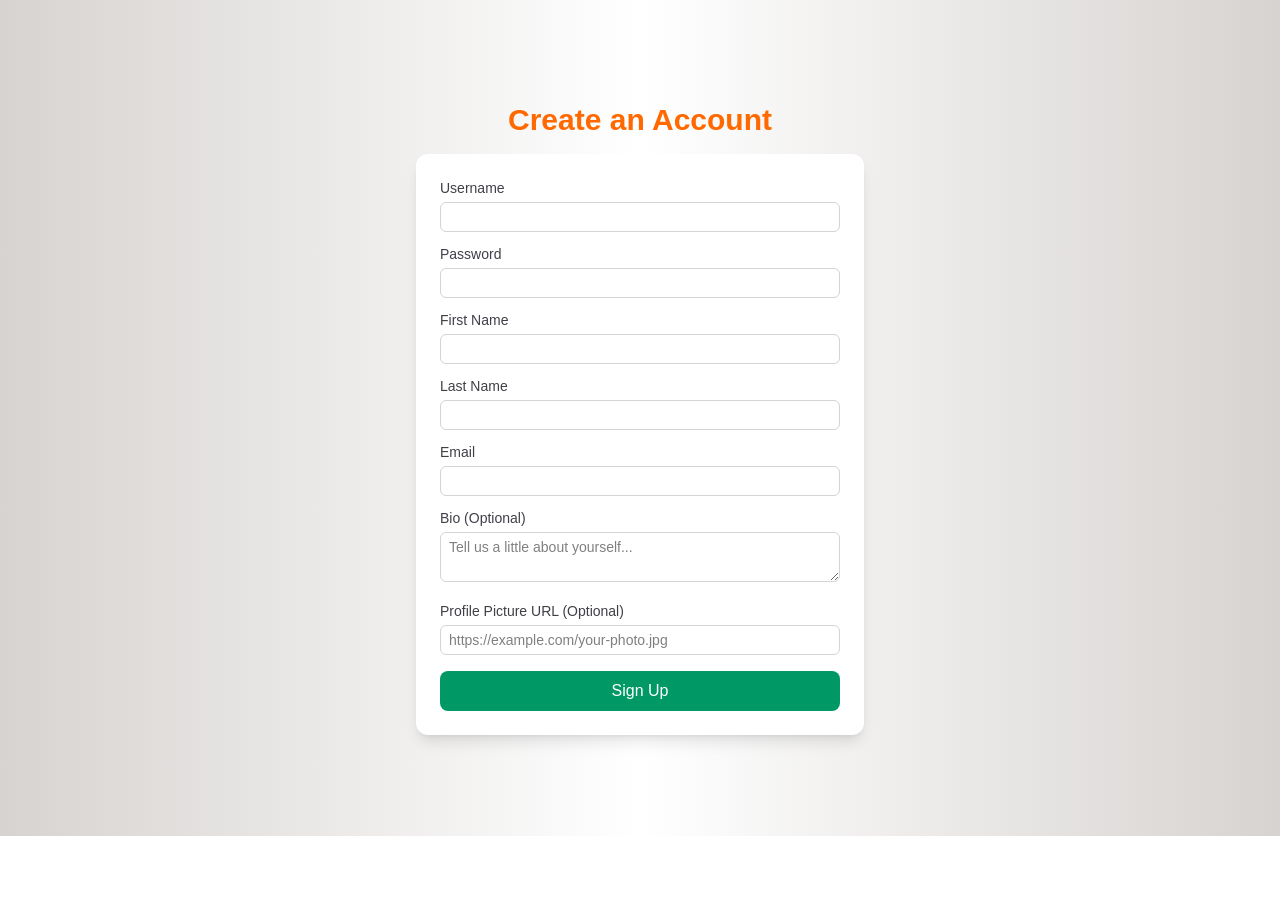
Test: SignupForm › displays error if signup fails
Step 1. Type "newuser" into the field labelled "Username" → x=640, y=216, box [440, 202, 840, 232]
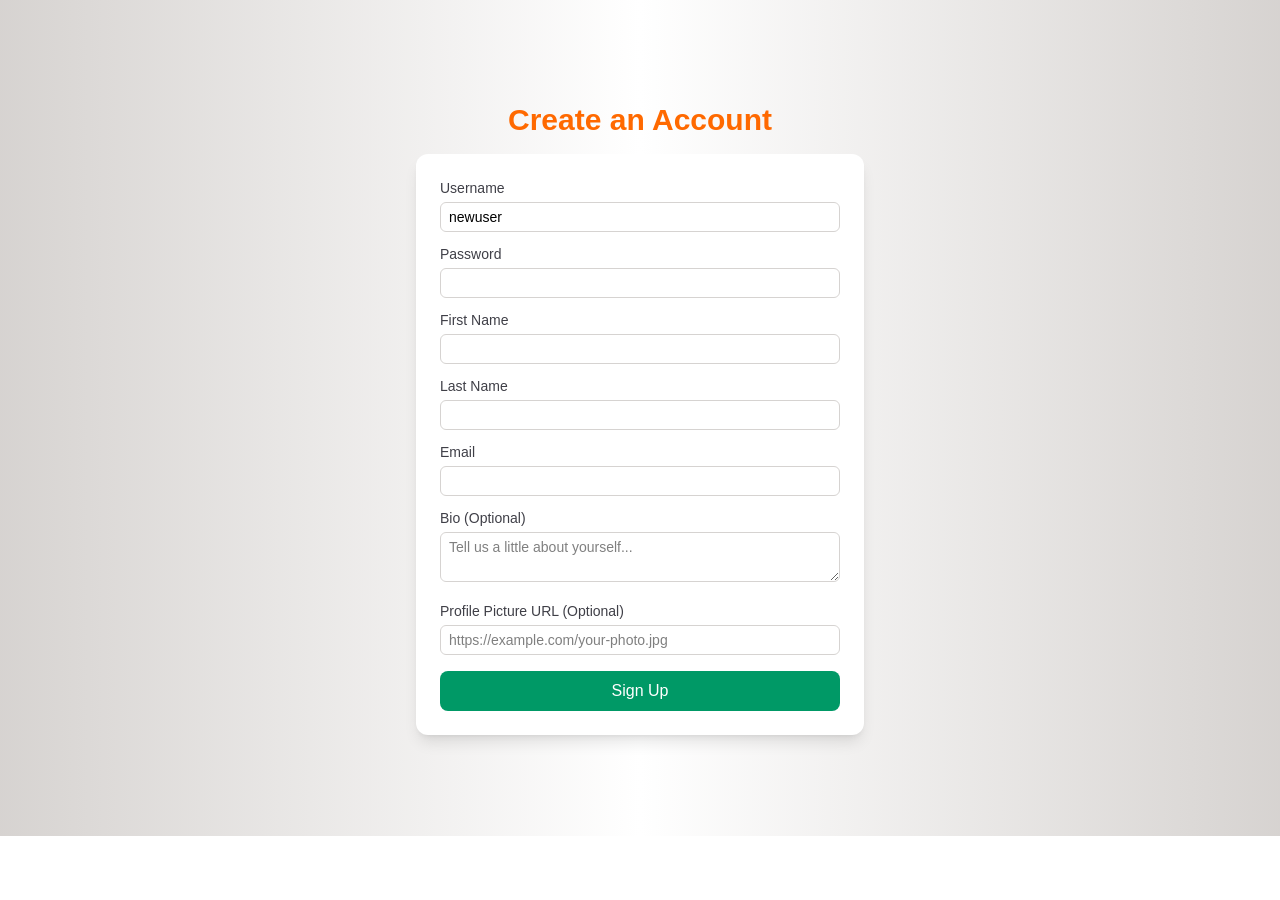
Step 2. Type "password123" into the password field labelled "Password" → x=640, y=282, box [440, 268, 840, 298]
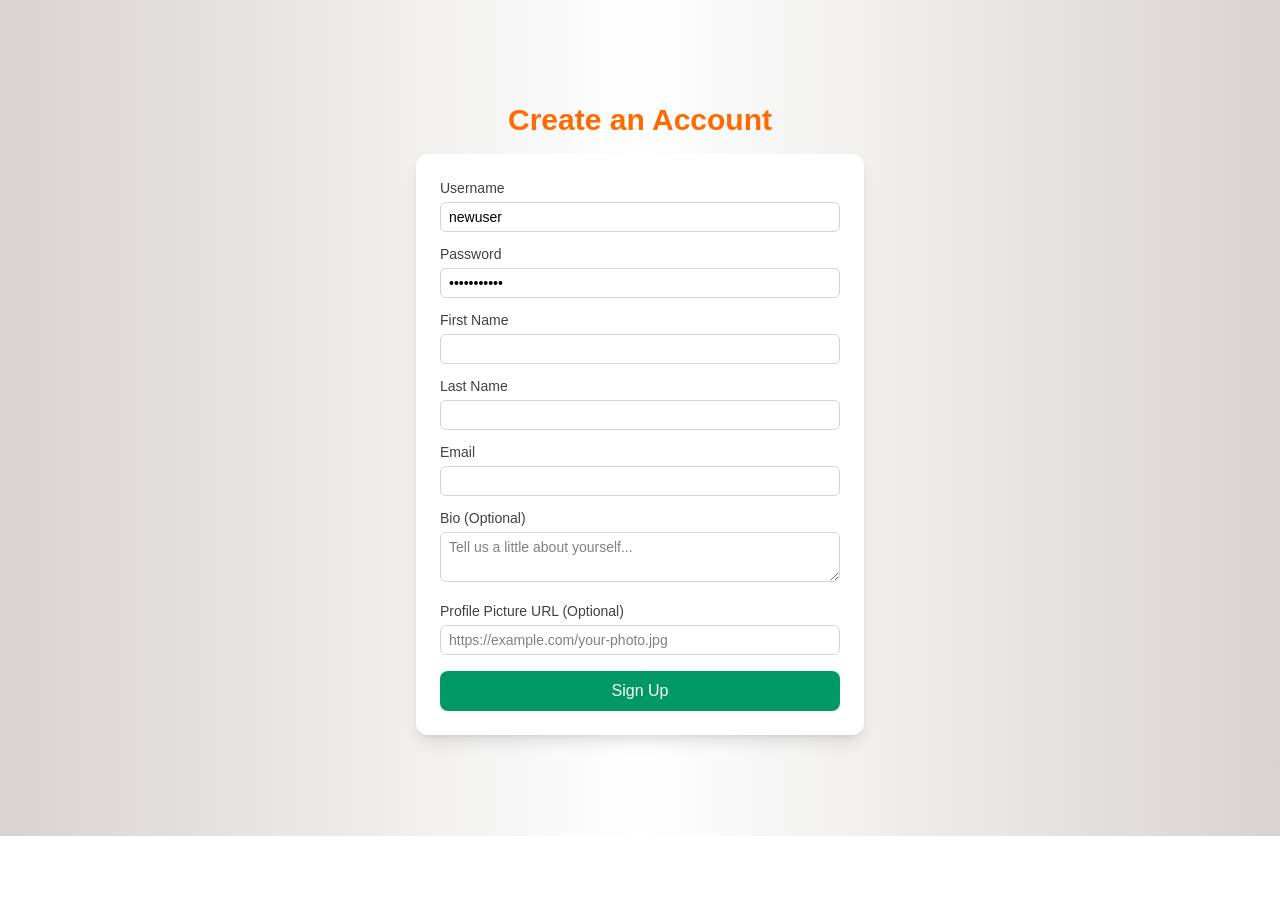
Step 3. Type "Test" into the field labelled "First Name" → x=640, y=348, box [440, 334, 840, 364]
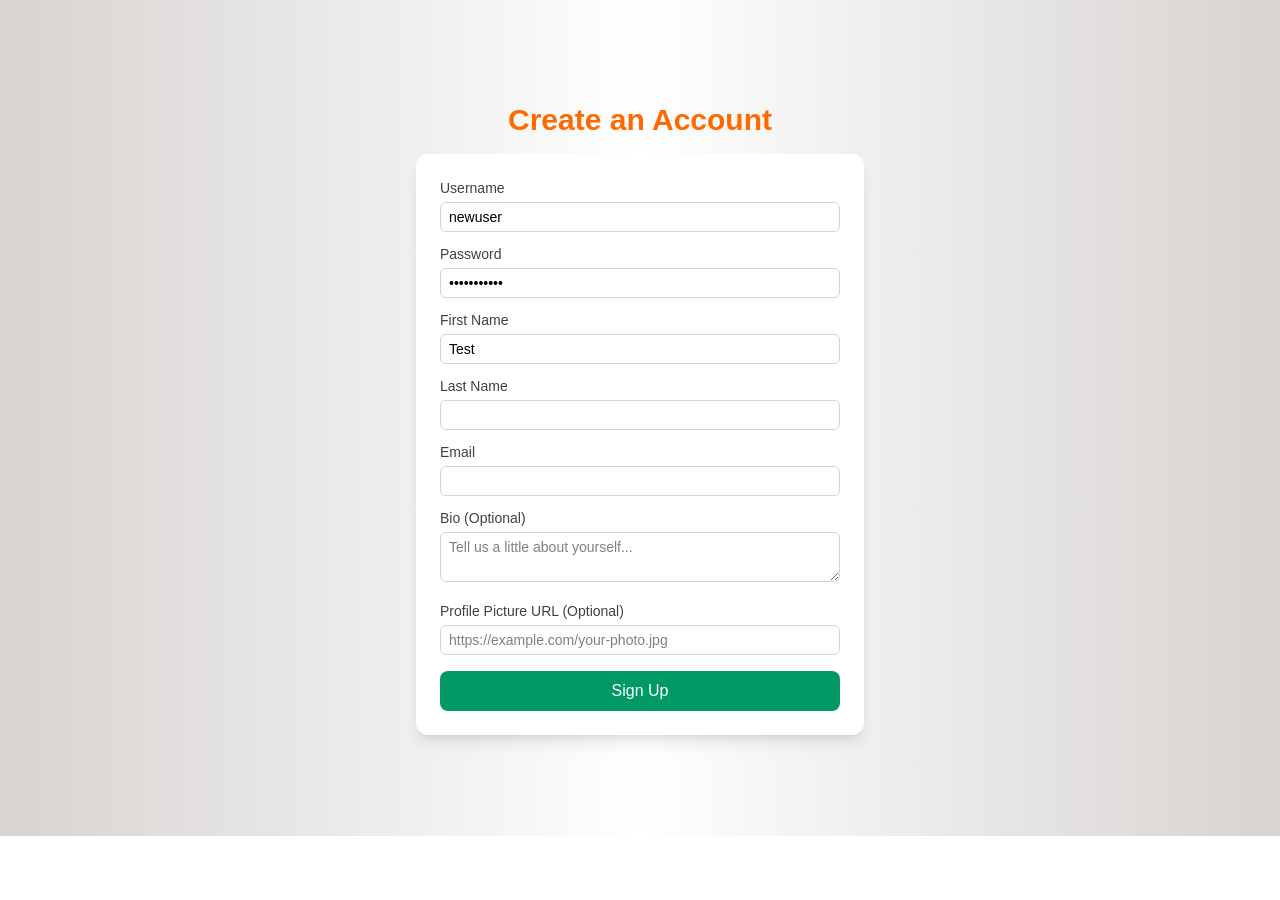
Step 4. Type "User" into the field labelled "Last Name" → x=640, y=414, box [440, 400, 840, 430]
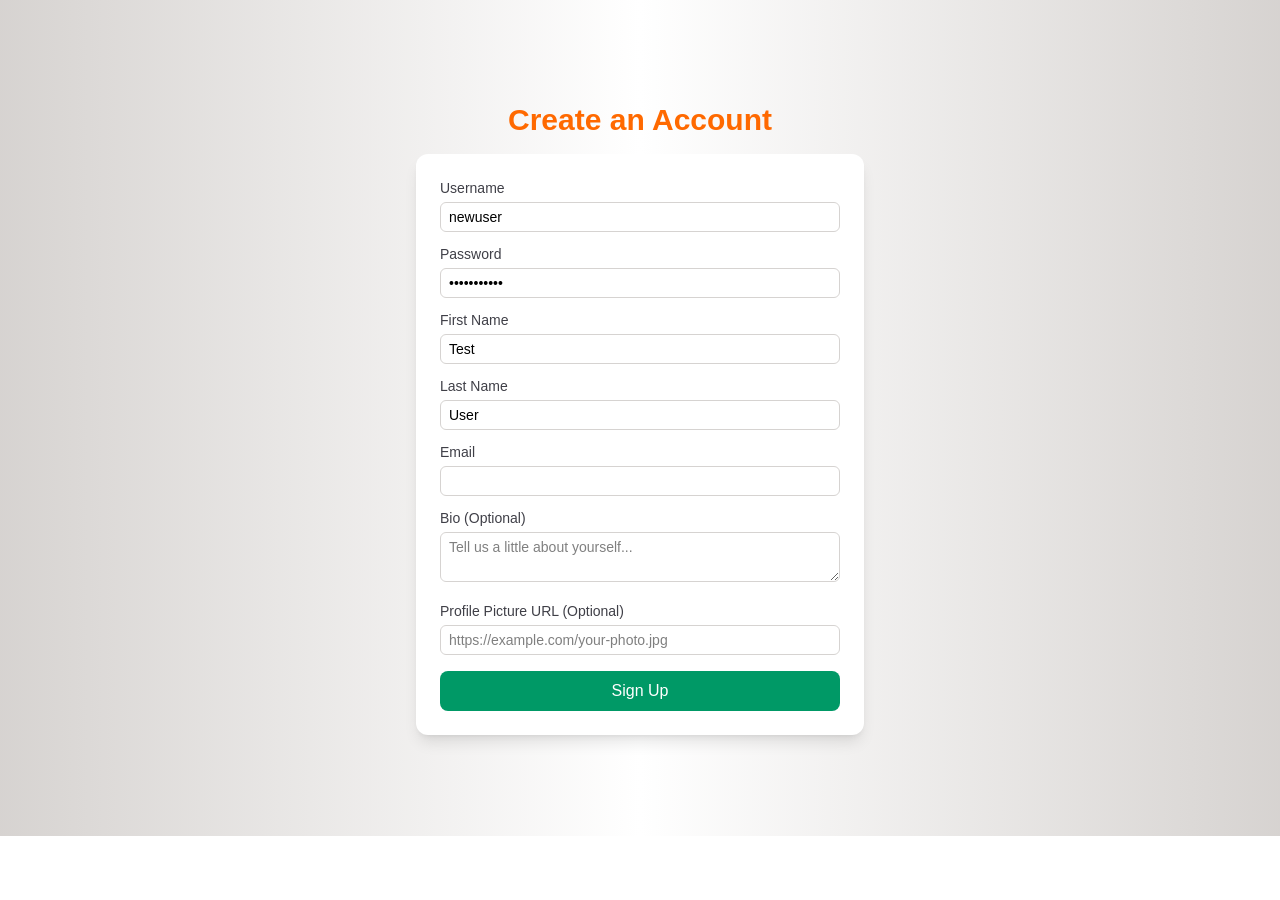
Step 5. Type "test@example.com" into the field labelled "Email" → x=640, y=480, box [440, 466, 840, 496]
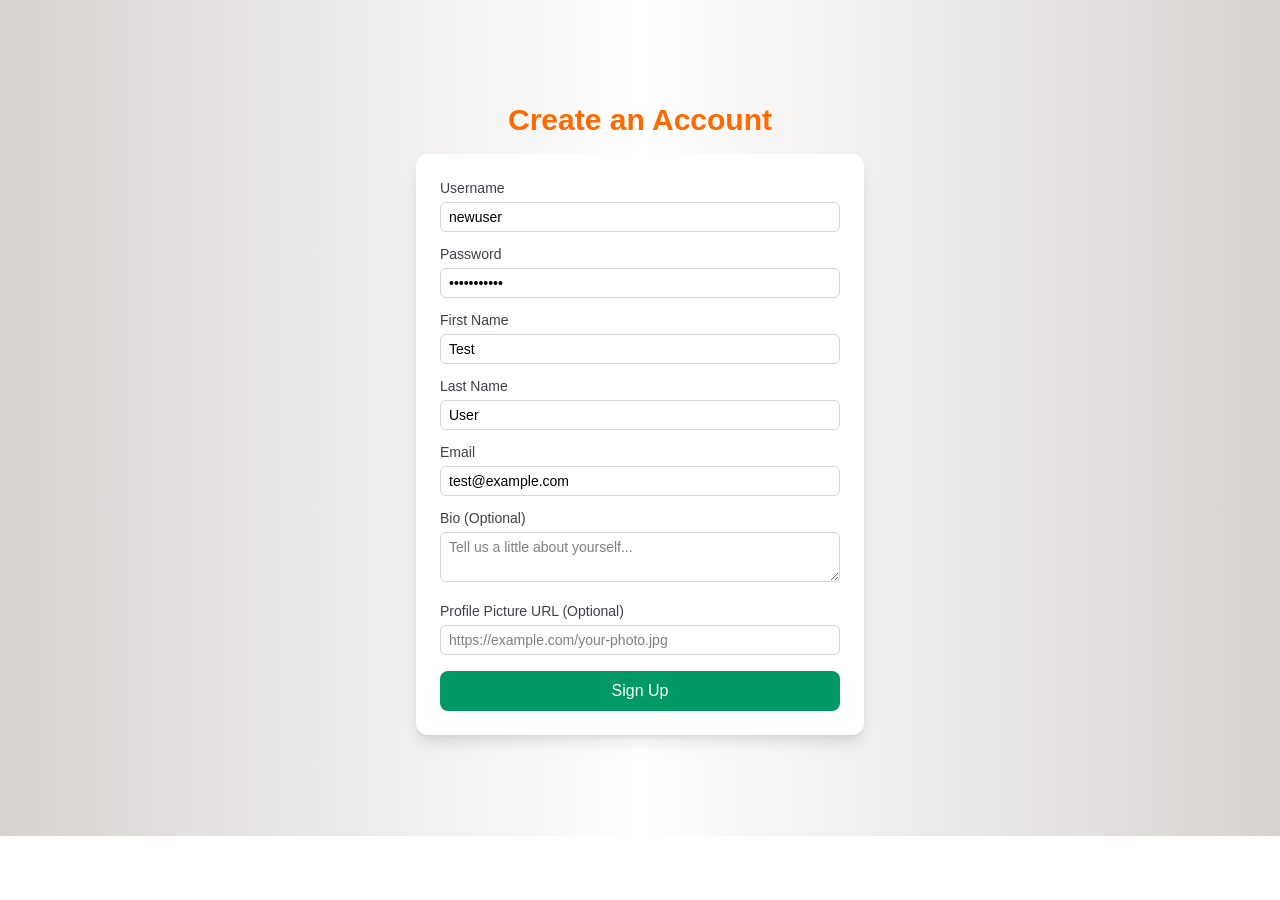
Step 6. Click the button "Sign Up" → x=640, y=690, box [440, 670, 840, 710]
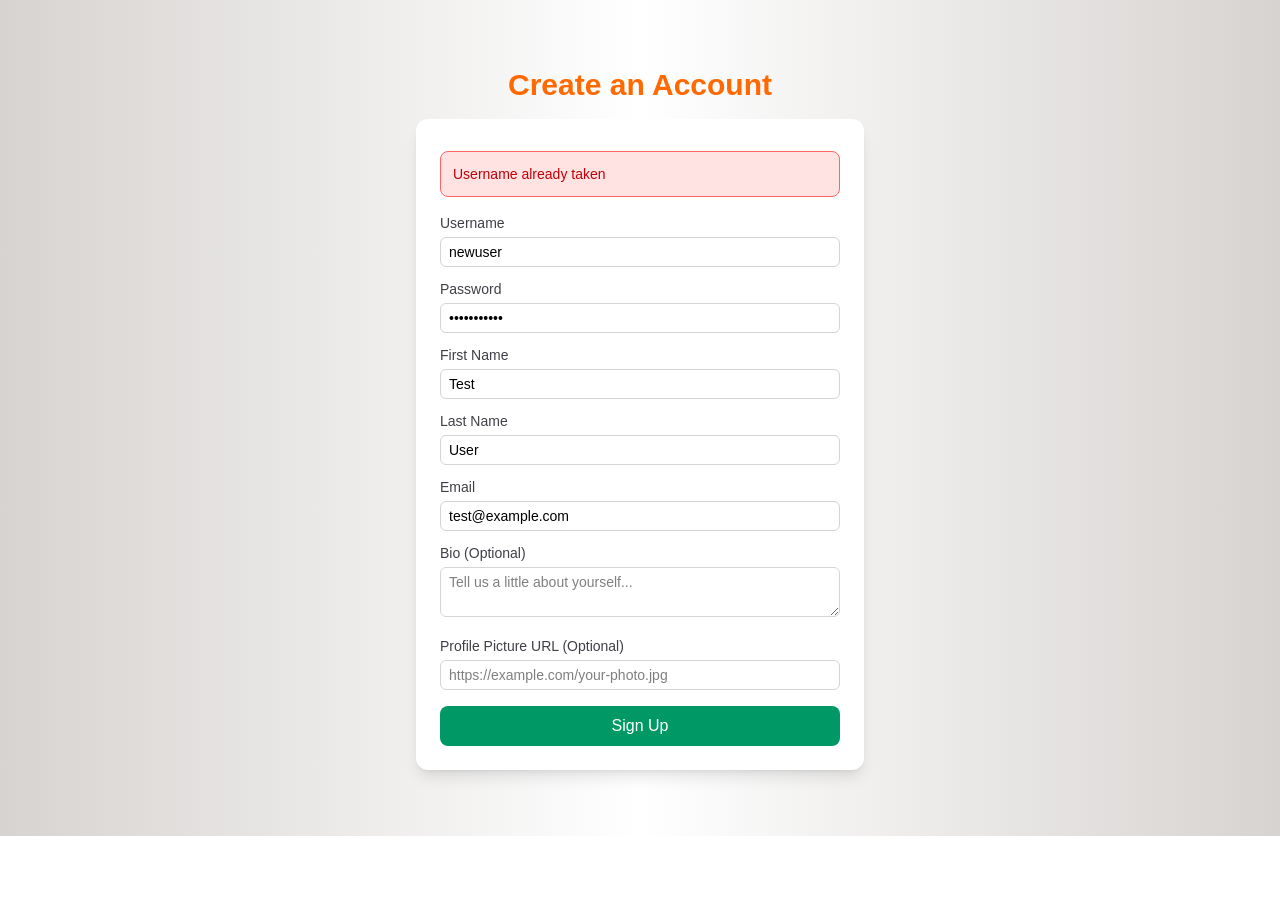
Expected: the text "Username already taken" is shown, [453, 166, 606, 182]
